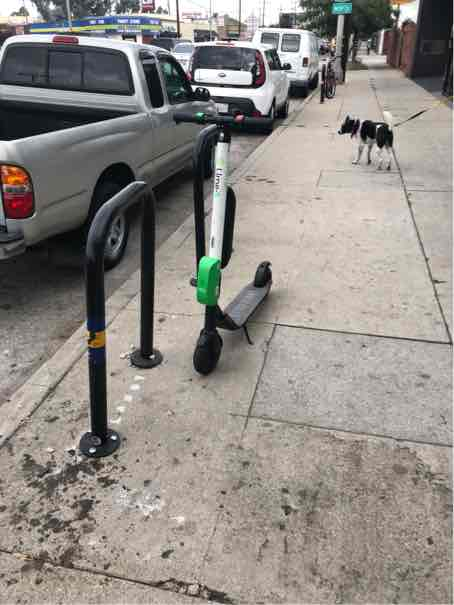scooter: (173, 97, 280, 386)
